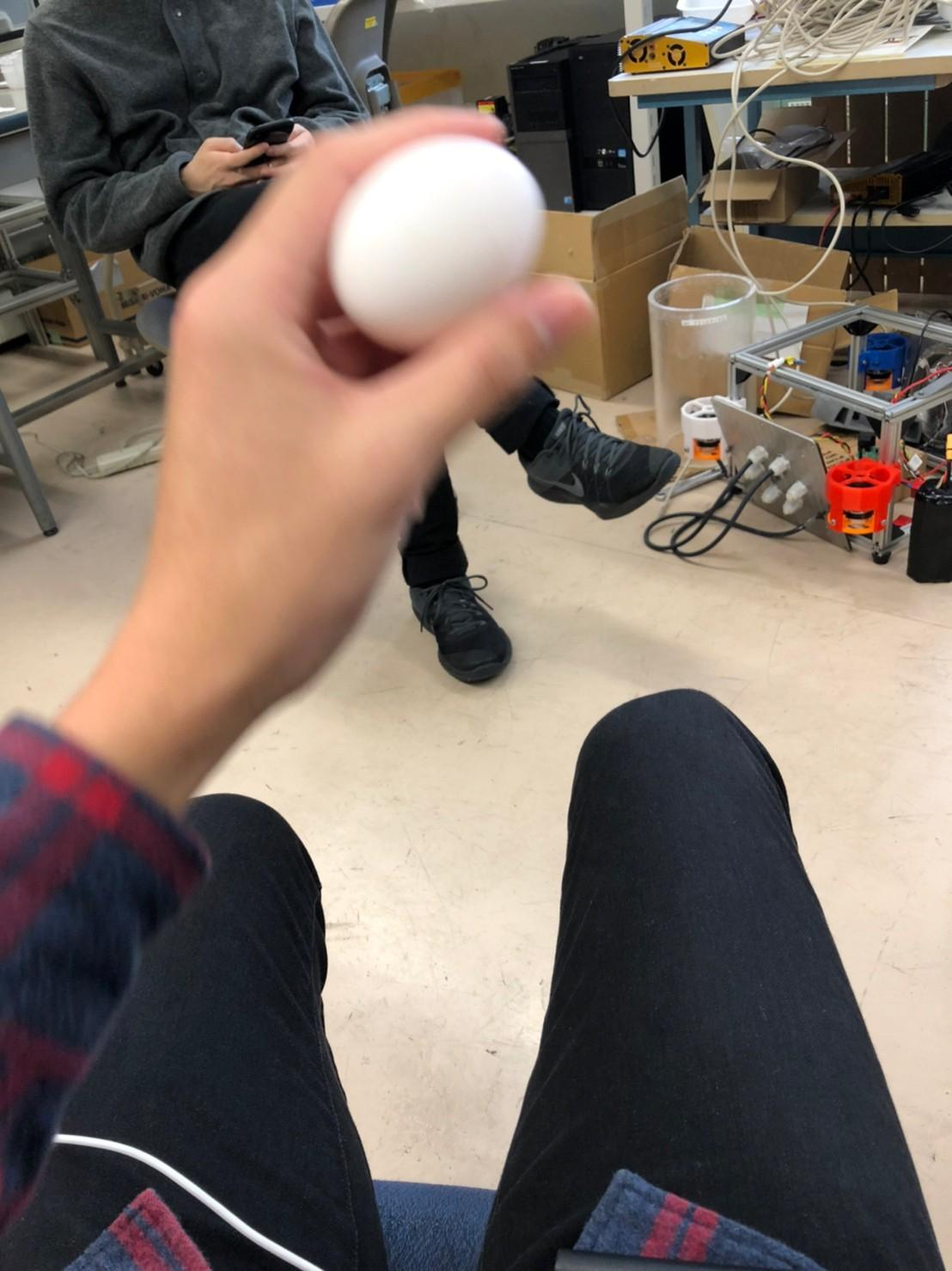egg: (323, 130, 548, 348)
